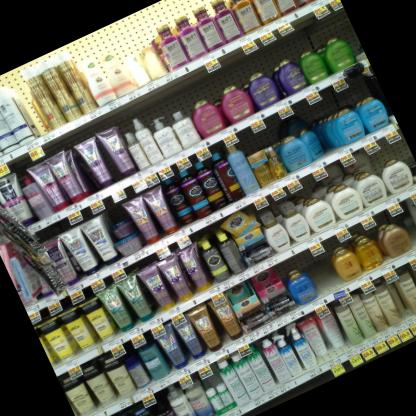empty_space: (303, 253, 341, 297), (405, 220, 416, 248)
